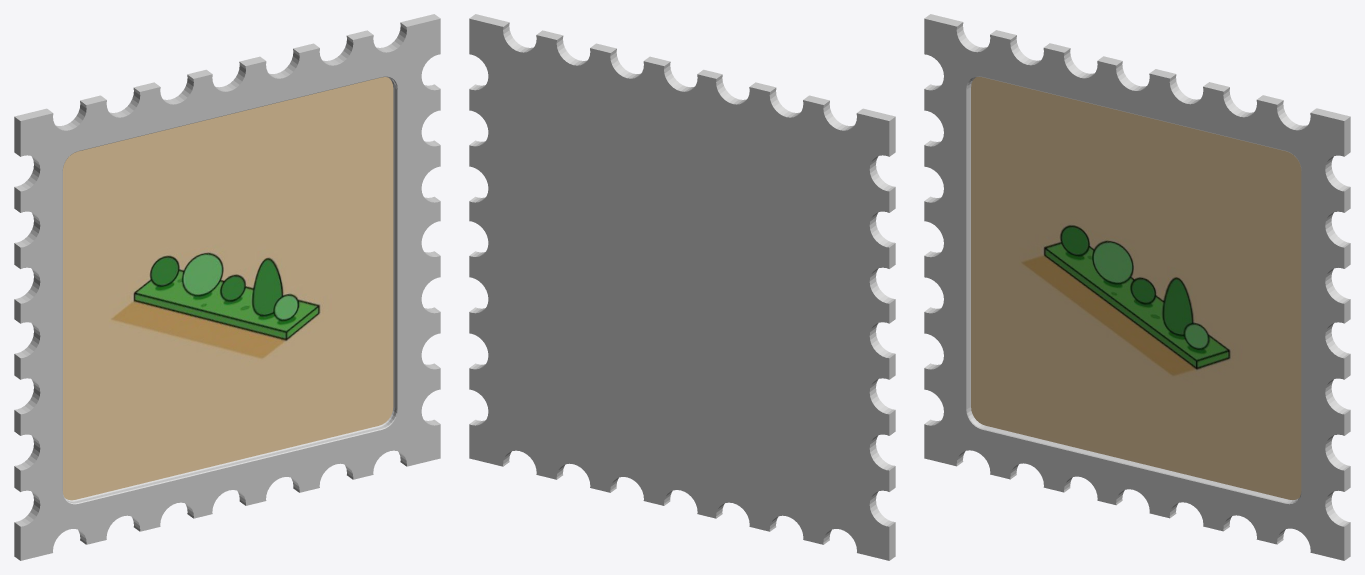
The model's file is B_Olivia_24.glb.
3 renders of one model, left to right at view 1: azimuth 30°, elevation 25°; view 2: azimuth 150°, elevation 25°; view 3: azimuth 330°, elevation 25°, orthographic.
Visible parts, largest first — view 1: Plane031, Plane030; view 2: Plane030; view 3: Plane031, Plane030.
Boxes of the visible parts, x1,y1,x2,y2 form: Plane031: [63, 77, 393, 500]; Plane030: [14, 14, 440, 560]; Plane030: [469, 14, 895, 560]; Plane031: [971, 77, 1301, 499]; Plane030: [924, 14, 1350, 560].
Bounding box in the file's own units: 0.3 × 0.3 × 0.00781.
2 materials, 1 textured.
